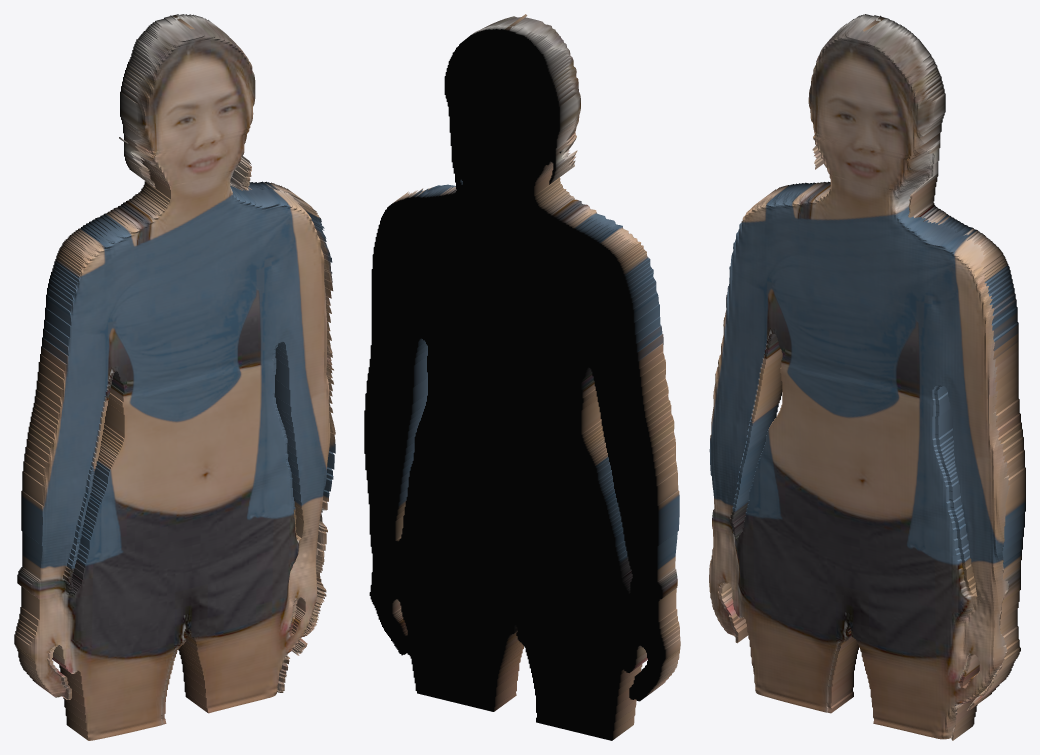
The model's file is avatar_20260409_202023.glb.
3 views of the same model, side by side, from view 1: azimuth 30°, elevation 25°; view 2: azimuth 150°, elevation 25°; view 3: azimuth 330°, elevation 25° (orthographic).
Parts seen in each view (by area): view 1: world; view 2: world; view 3: world.
Part boxes in pixels (bbox=[...]): world: bbox=[14, 14, 335, 740]; world: bbox=[364, 14, 680, 740]; world: bbox=[709, 14, 1025, 740].
Bounding box in the file's own units: 0.8609 × 1.87 × 0.1333.
